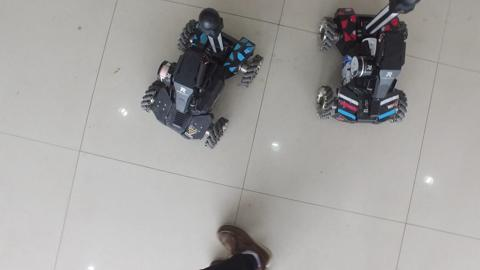chariot: (142, 7, 272, 157), (313, 1, 419, 133)
